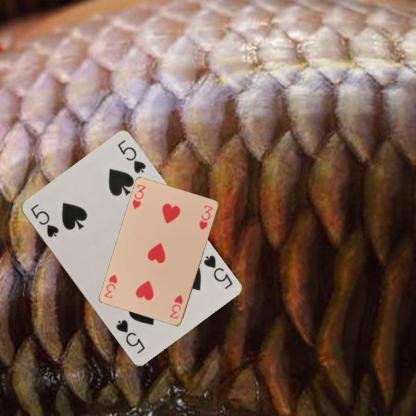3h: (167, 292, 184, 321), (130, 182, 147, 211)
5s: (200, 252, 233, 291), (28, 201, 60, 239)
